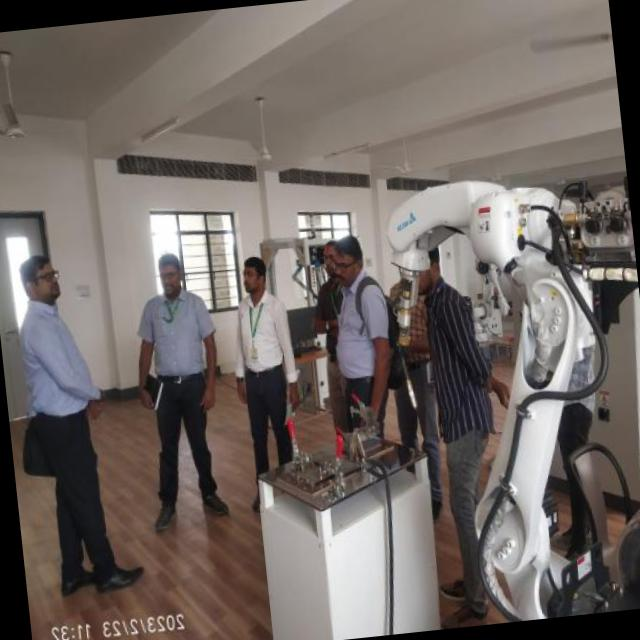id_card: (241, 291, 266, 369), (159, 292, 182, 330)
